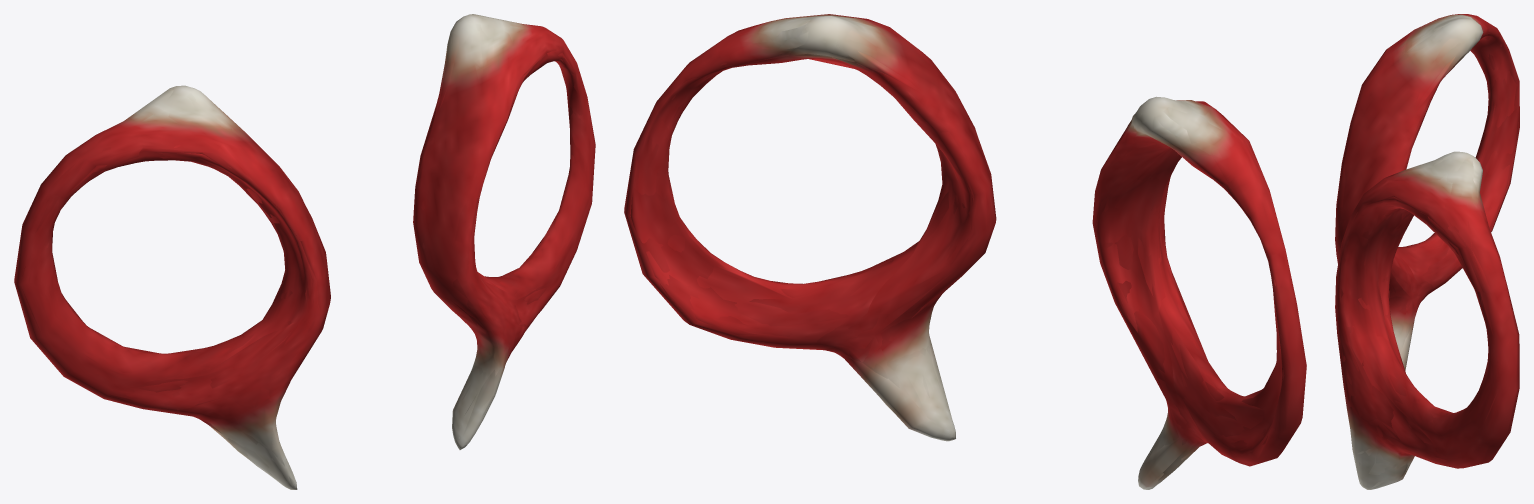
Rendered from Orbicularis Oculi.fbx.
3 views of the same model, side by side, from view 1: azimuth 30°, elevation 25°; view 2: azimuth 150°, elevation 25°; view 3: azimuth 270°, elevation 25° (orthographic). The views are drawn at different scales.
Parts seen in each view (by area): view 1: Orbicularis Oculi, Orbicularis Oculi high, Orbicularis Oculi low; view 2: Orbicularis Oculi, Orbicularis Oculi high, Orbicularis Oculi low; view 3: Orbicularis Oculi, Orbicularis Oculi high, Orbicularis Oculi low.
Part boxes in pixels (x1=…): Orbicularis Oculi: x1=14, y1=14, x2=595, y2=489; Orbicularis Oculi high: x1=22, y1=18, x2=592, y2=486; Orbicularis Oculi low: x1=21, y1=14, x2=595, y2=489; Orbicularis Oculi: x1=624, y1=14, x2=1306, y2=489; Orbicularis Oculi high: x1=630, y1=18, x2=1301, y2=488; Orbicularis Oculi low: x1=625, y1=14, x2=1298, y2=487; Orbicularis Oculi: x1=1335, y1=14, x2=1519, y2=489; Orbicularis Oculi high: x1=1336, y1=14, x2=1518, y2=489; Orbicularis Oculi low: x1=1335, y1=14, x2=1519, y2=489.
Bounding box in the file's own units: 6.43 × 4.05 × 1.87.
